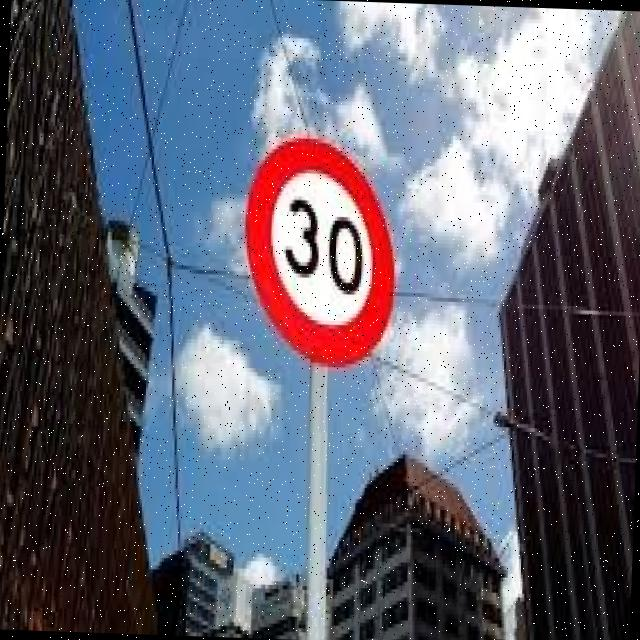speed_limit_30: (236, 132, 410, 377)
